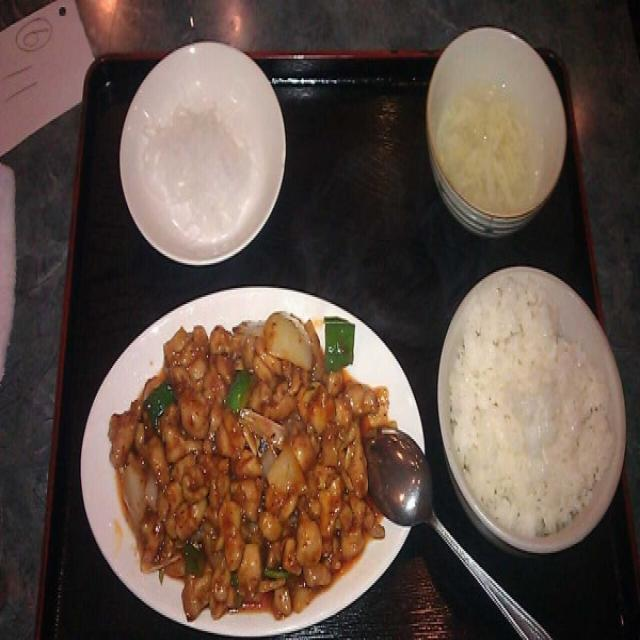Rice: (451, 279, 618, 525)
